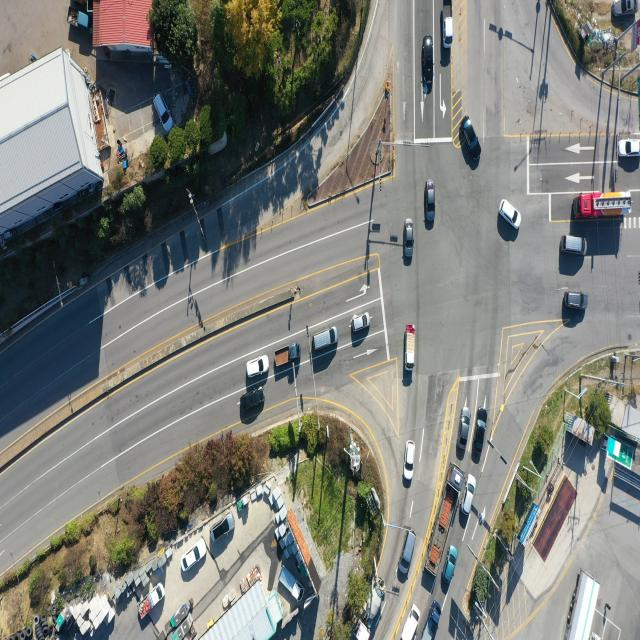car: (155, 90, 175, 132), (461, 116, 480, 160), (181, 540, 206, 573), (399, 530, 416, 576), (398, 603, 419, 640), (474, 407, 488, 461), (311, 325, 338, 352), (561, 233, 591, 256), (499, 200, 521, 231), (212, 517, 235, 546), (423, 36, 434, 95), (461, 474, 476, 516), (240, 388, 265, 411), (425, 176, 437, 223), (247, 354, 270, 378), (458, 408, 470, 452), (404, 219, 416, 263), (445, 545, 458, 582), (405, 440, 416, 482), (613, 0, 638, 18), (618, 138, 640, 158), (564, 290, 587, 309), (350, 439, 361, 474), (350, 313, 370, 332)
medium_truck: (425, 463, 465, 578), (565, 572, 600, 640), (353, 577, 387, 640), (576, 193, 634, 220)
small_truck: (419, 597, 442, 640), (139, 581, 166, 614), (278, 566, 304, 600), (273, 342, 301, 368), (66, 8, 92, 30), (406, 323, 417, 372), (443, 0, 454, 45)
